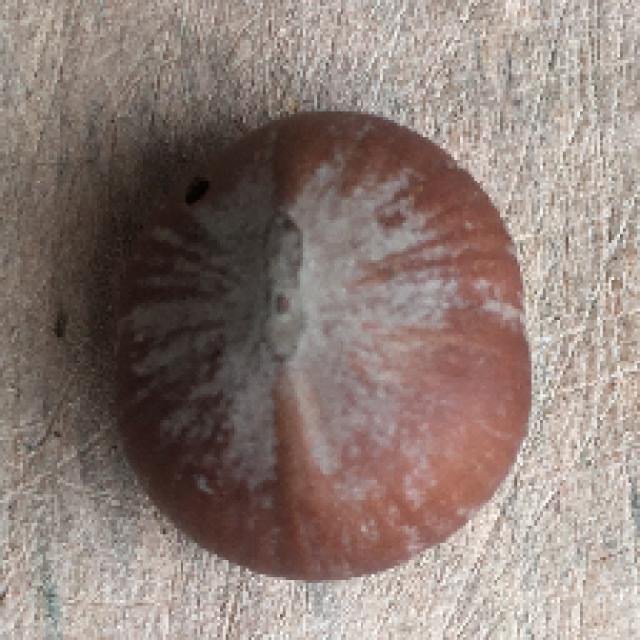damagedHazelnut: (108, 96, 540, 586)
